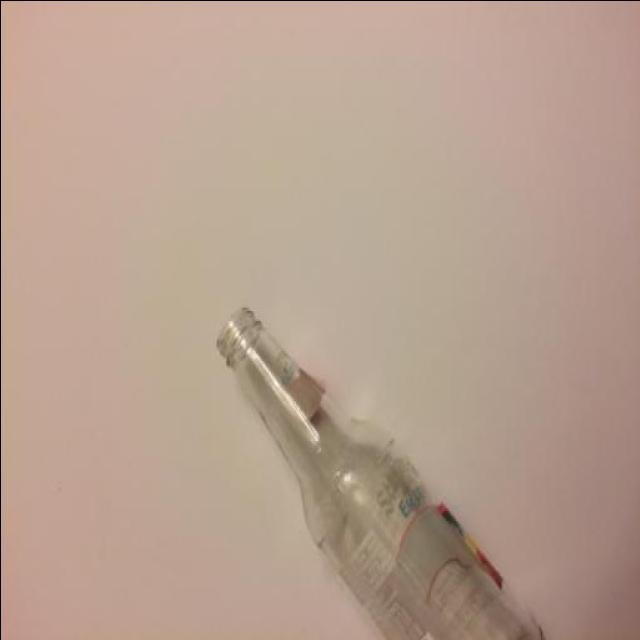glass: (218, 302, 546, 638)
